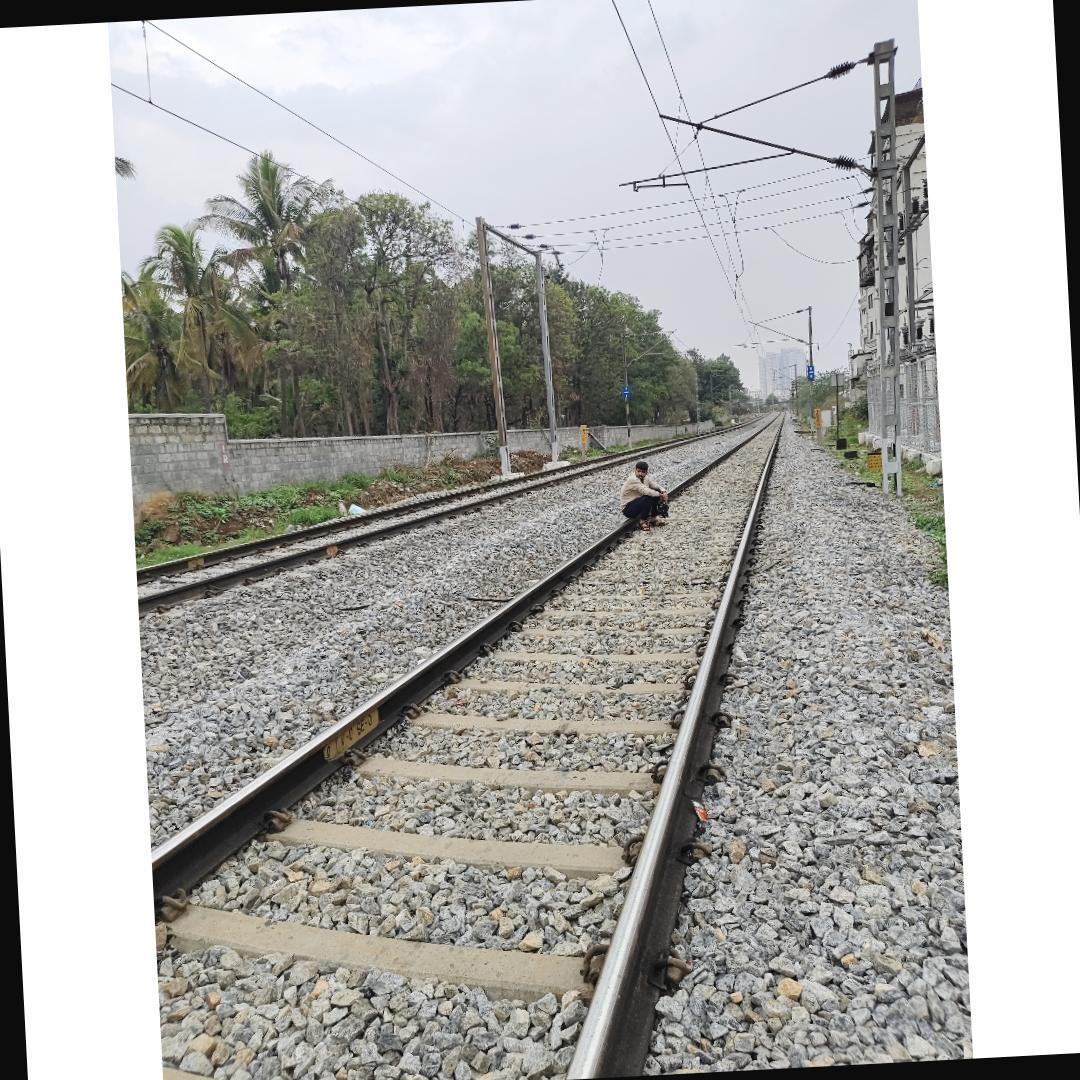sitting: (616, 458, 670, 532)
track: (147, 411, 796, 1080)
